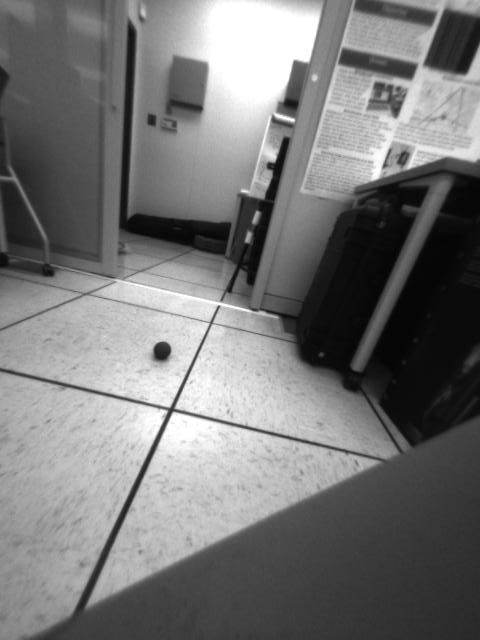dogtoy: (150, 337, 177, 367)
